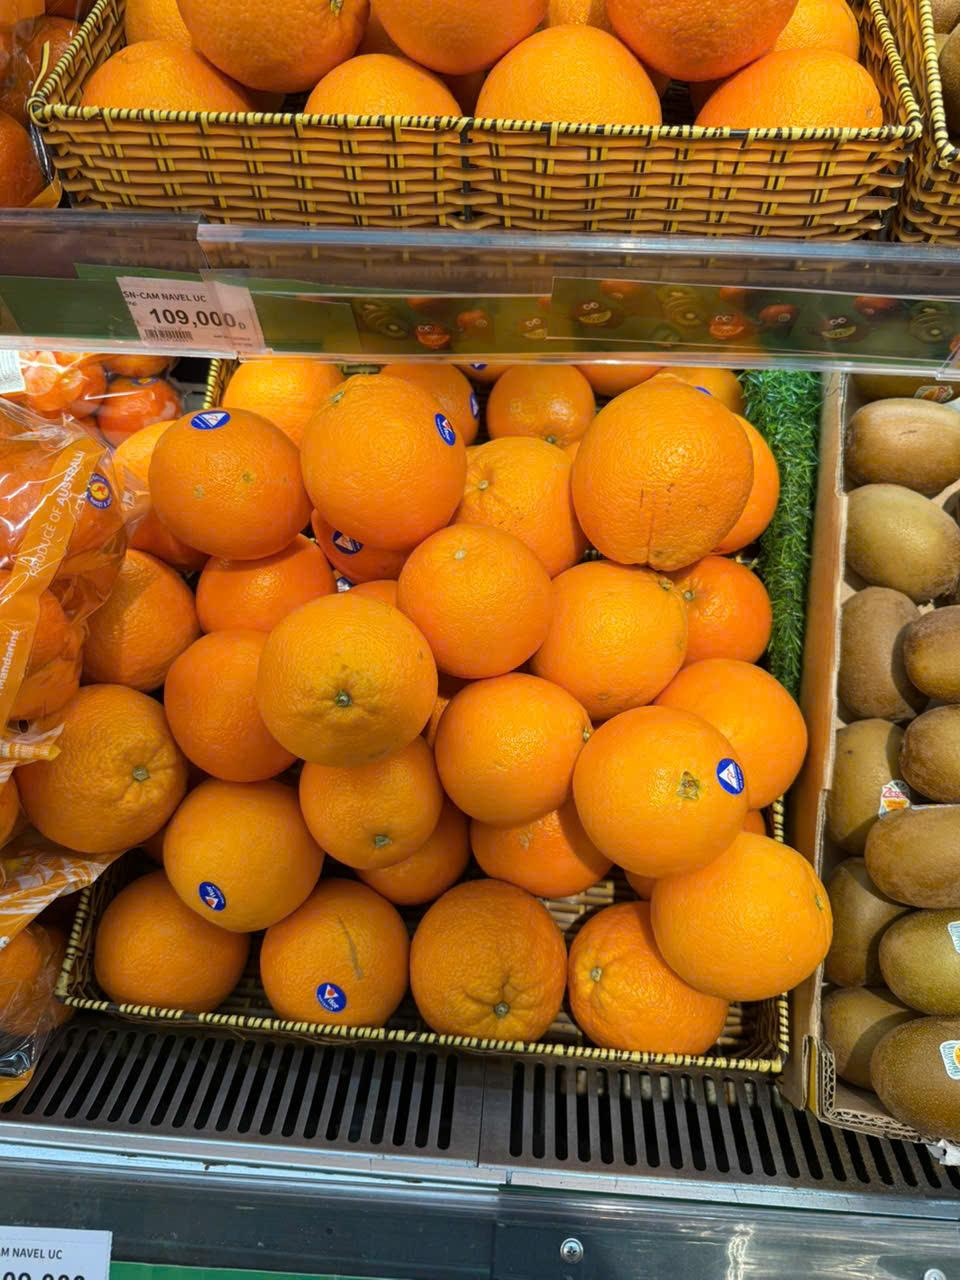orange: (645, 828, 839, 1016), (568, 386, 749, 578), (568, 696, 745, 876), (263, 586, 431, 770), (305, 368, 469, 552), (403, 873, 569, 1042), (22, 685, 185, 856), (142, 401, 305, 564), (430, 661, 589, 826), (570, 896, 721, 1066), (253, 876, 415, 1032), (163, 778, 327, 930), (403, 525, 551, 688), (472, 26, 669, 132), (87, 886, 247, 1008), (552, 561, 689, 698), (688, 51, 899, 138), (602, 0, 799, 83), (172, 5, 369, 84), (165, 633, 263, 786), (695, 666, 809, 794), (75, 38, 259, 110), (373, 1, 553, 68), (297, 43, 461, 116), (692, 566, 773, 662)
